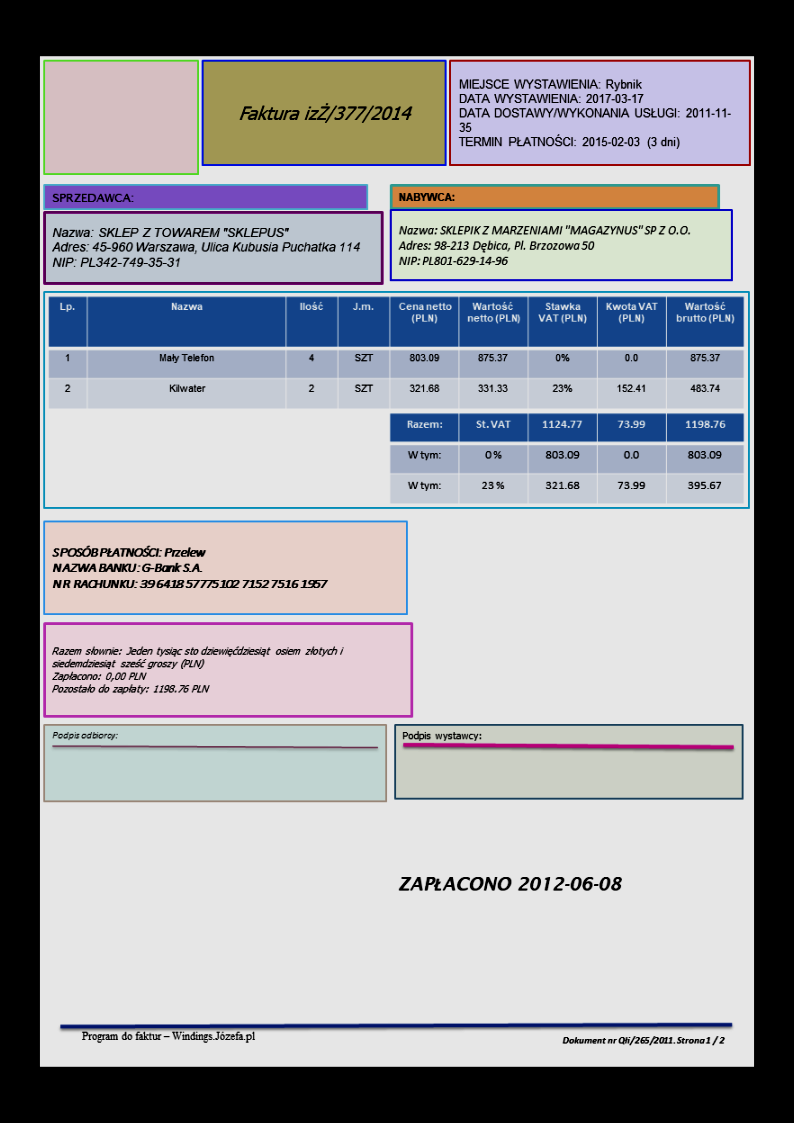Table: (47, 294, 745, 411), (387, 411, 746, 505)
TextBox: (456, 74, 734, 152), (51, 643, 349, 696), (50, 224, 362, 272), (50, 542, 330, 594), (396, 221, 693, 269), (397, 872, 623, 895), (235, 101, 416, 125), (79, 1025, 256, 1045), (560, 1031, 727, 1048), (48, 188, 135, 205), (399, 728, 483, 744), (50, 726, 119, 743), (395, 187, 456, 206)
